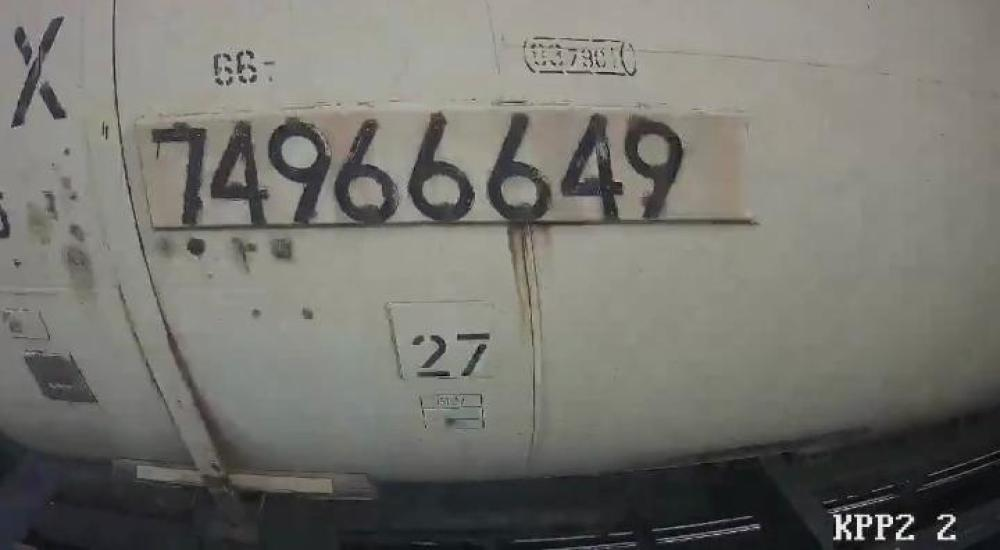Wagon-number: (144, 109, 691, 232)
